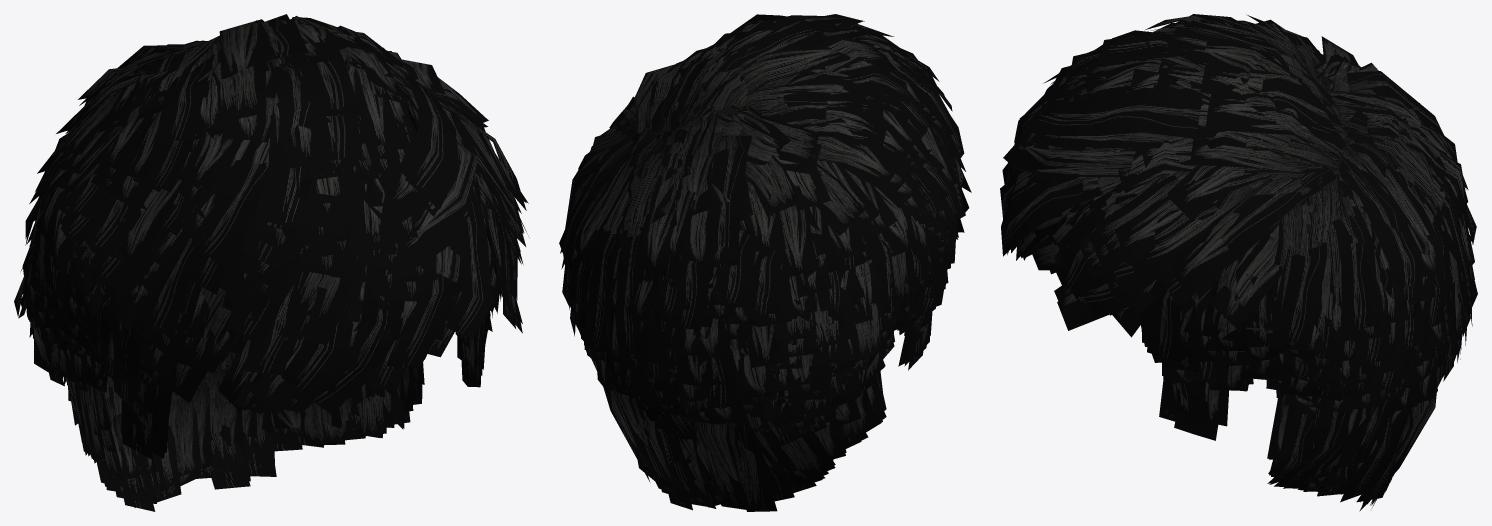
The model's file is Hair_7.fbx.
The picture shows the model from 3 angles, left to right: view 1: azimuth 30°, elevation 25°; view 2: azimuth 150°, elevation 25°; view 3: azimuth 270°, elevation 25°; orthographic projection. The views are drawn at different scales.
Parts seen in each view (by area): view 1: avaturn_hair_1, avaturn_hair_0; view 2: avaturn_hair_1, avaturn_hair_0; view 3: avaturn_hair_1, avaturn_hair_0.
Part boxes in pixels (x1=…): avaturn_hair_1: x1=14, y1=14, x2=529, y2=511; avaturn_hair_0: x1=23, y1=16, x2=528, y2=503; avaturn_hair_1: x1=559, y1=14, x2=971, y2=511; avaturn_hair_0: x1=561, y1=14, x2=969, y2=510; avaturn_hair_1: x1=1000, y1=14, x2=1477, y2=511; avaturn_hair_0: x1=1002, y1=19, x2=1474, y2=505.
Bounding box in the file's own units: 20.75 × 24.95 × 23.7.
